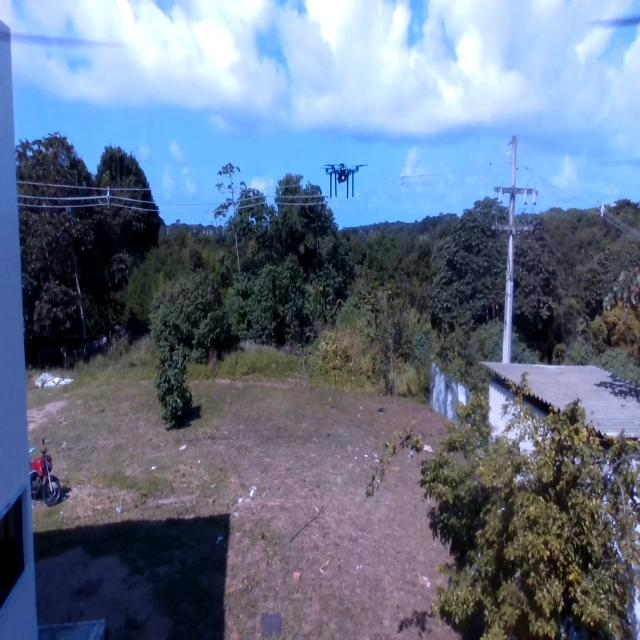-uav-: (314, 139, 373, 212)
